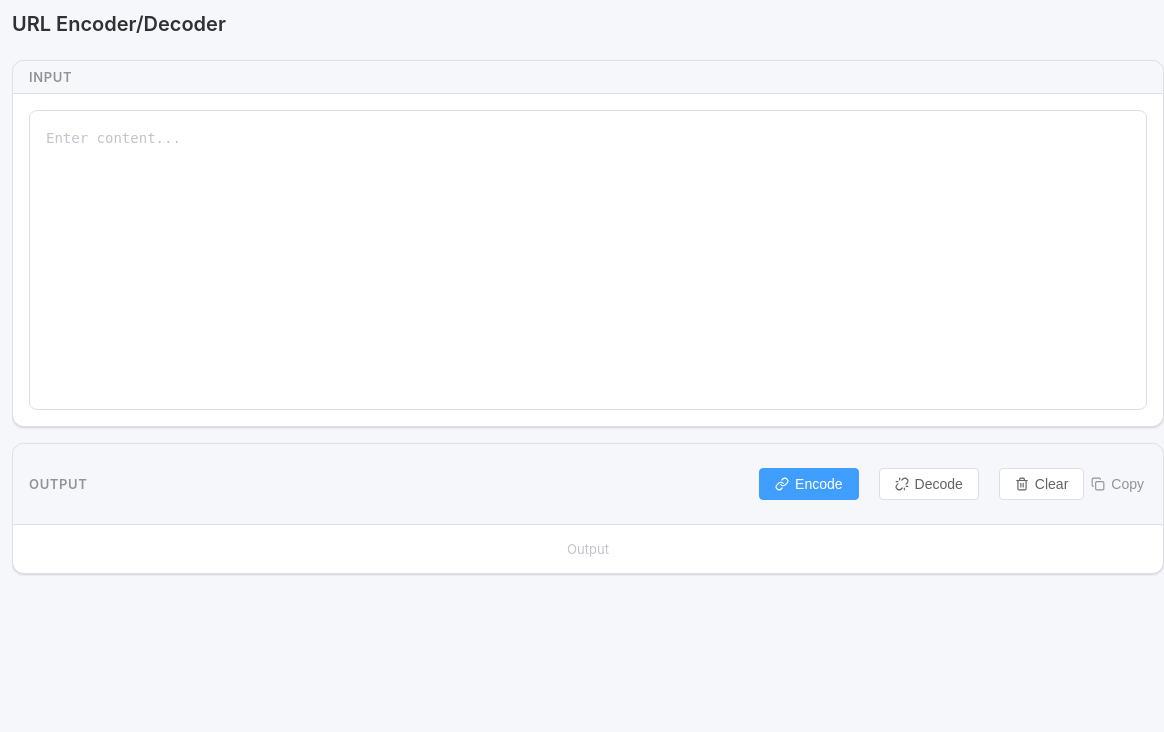
Test: UrlEncoder › should decode URL
The width and height of the screenshot is (1164, 732).
Type "https%3A%2F%2Fexample.com%2Fpath%3Fq%3Dhello%20world" into the text box with placeholder "Enter content..." at (588, 260), box [29,110,1147,410]
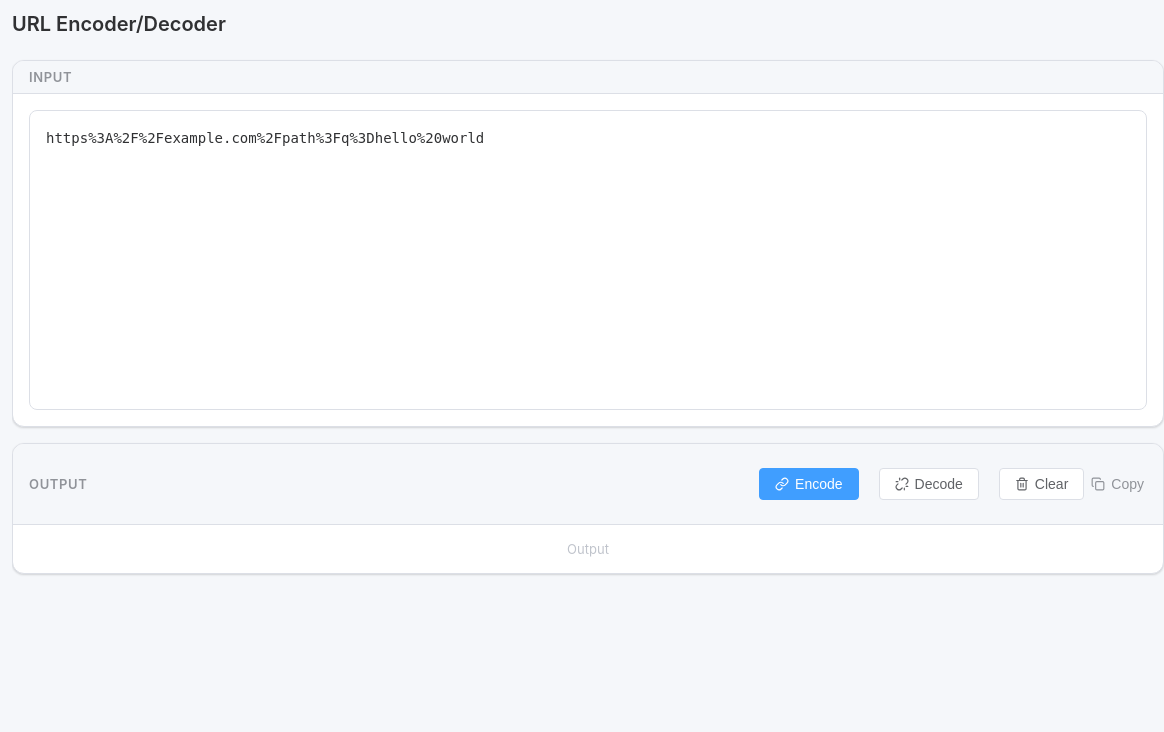
Click the button "Decode" at (929, 484), box [879,468,979,500]
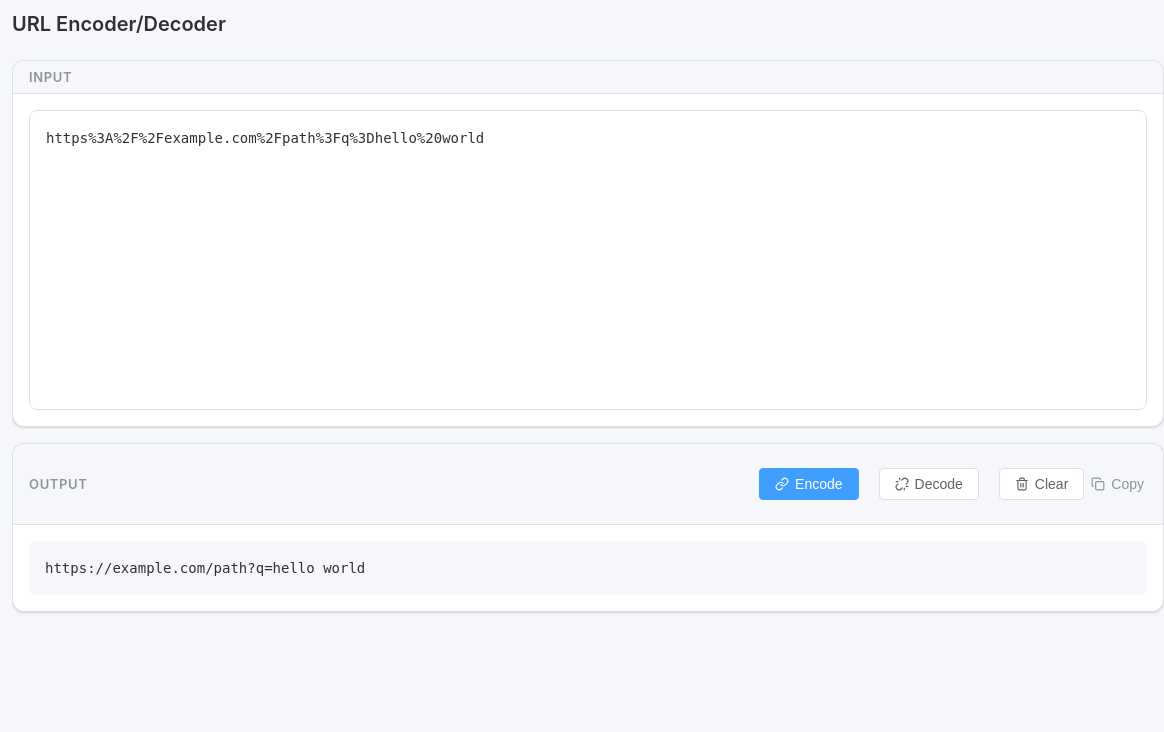
Expected: the element with class "code-content" reads "https://example.com/path?q=hello world", [45,560,365,576]
